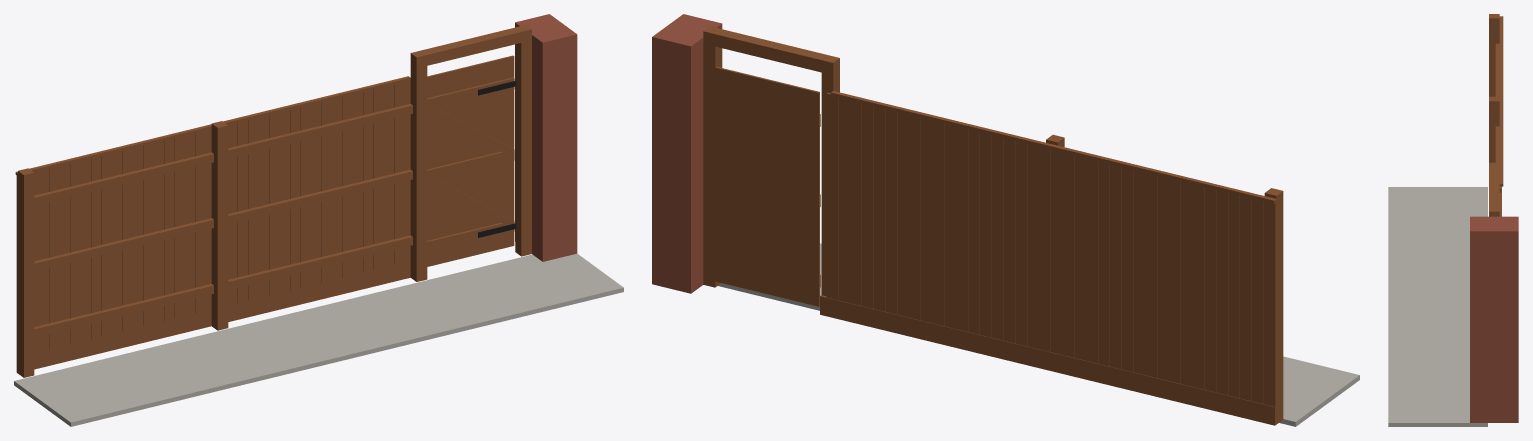
The model's file is fence-and-gate-ealing.glb.
3 renders of one model, left to right at view 1: azimuth 30°, elevation 25°; view 2: azimuth 150°, elevation 25°; view 3: azimuth 270°, elevation 25°, orthographic. The views are drawn at different scales.
Visible parts, largest first — view 1: Room: Patio, Room: Brick pier, Fence: Gravel board, Fence: Post 3, Gate: Gate post, Fence: Post 2, Fence: Post 1, Fence: Rail 6, Fence: Rail 4, Fence: Rail 5, Fence: Capping, Fence: Rail 3 (+53 smaller); view 2: Room: Brick pier, Fence: Gravel board, Room: Patio, Gate: Gate post, Fence: Board 1, Gate: Board 1, Gate: Board 2, Gate: Board 8, Gate: Board 4, Gate: Board 6, Fence: Capping, Fence: Board 38 (+43 smaller); view 3: Room: Patio, Room: Brick pier, Fence: Capping, Fence: Post 1, Fence: Post 2, Gate: Head, Fence: Rail 3, Fence: Rail 6.
Part boxes in pixels (left/top/right/bottom): Room: Patio: left=14, top=253, right=623, bottom=426; Room: Brick pier: left=515, top=14, right=577, bottom=261; Fence: Gravel board: left=16, top=261, right=410, bottom=373; Fence: Post 3: left=410, top=50, right=427, bottom=281; Gate: Gate post: left=515, top=25, right=531, bottom=256; Fence: Post 2: left=211, top=121, right=228, bottom=330; Fence: Post 1: left=18, top=168, right=34, bottom=377; Fence: Rail 6: left=228, top=104, right=412, bottom=158; Fence: Rail 4: left=228, top=235, right=412, bottom=289; Fence: Rail 5: left=228, top=169, right=412, bottom=224; Fence: Capping: left=15, top=76, right=410, bottom=175; Fence: Rail 3: left=34, top=152, right=213, bottom=205; Room: Brick pier: left=652, top=14, right=722, bottom=293; Fence: Gravel board: left=820, top=295, right=1276, bottom=425; Room: Patio: left=718, top=243, right=1359, bottom=426; Gate: Gate post: left=703, top=26, right=721, bottom=287; Fence: Board 1: left=1263, top=201, right=1276, bottom=406; Gate: Board 1: left=807, top=89, right=819, bottom=306; Gate: Board 2: left=795, top=86, right=808, bottom=303; Gate: Board 8: left=726, top=69, right=738, bottom=286; Gate: Board 4: left=772, top=80, right=784, bottom=297; Gate: Board 6: left=749, top=75, right=761, bottom=292; Fence: Capping: left=831, top=91, right=1276, bottom=203; Fence: Board 38: left=826, top=92, right=838, bottom=300; Room: Patio: left=1388, top=187, right=1487, bottom=426; Room: Brick pier: left=1470, top=216, right=1518, bottom=422; Fence: Capping: left=1499, top=16, right=1503, bottom=186; Fence: Post 1: left=1489, top=14, right=1499, bottom=96; Fence: Post 2: left=1489, top=96, right=1499, bottom=162; Gate: Head: left=1489, top=167, right=1499, bottom=207; Fence: Rail 3: left=1495, top=43, right=1499, bottom=96; Fence: Rail 6: left=1495, top=126, right=1499, bottom=162.
Size of the model in its own units: 5.28 by 2.09 by 1.23.
